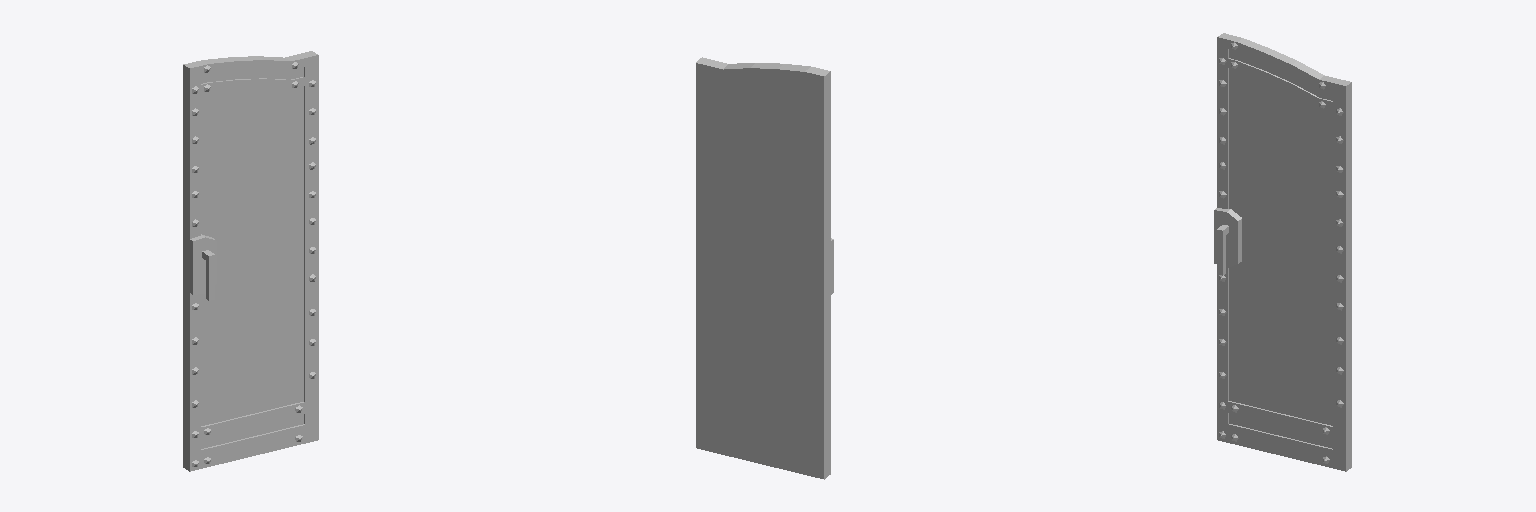
Rendered from door_right.obj.
The picture shows the model from 3 angles: view 1: azimuth 30°, elevation 25°; view 2: azimuth 150°, elevation 25°; view 3: azimuth 330°, elevation 25°; orthographic projection.
Visible parts, largest first — view 1: Cube.004; view 2: Cube.004; view 3: Cube.004.
Part boxes in pixels (x1,y1,x2,y2): Cube.004: (183,51,318,471); Cube.004: (696,57,833,479); Cube.004: (1214,33,1351,471).
Size of the model in its own units: 0.3241 by 0.9687 by 0.0711.